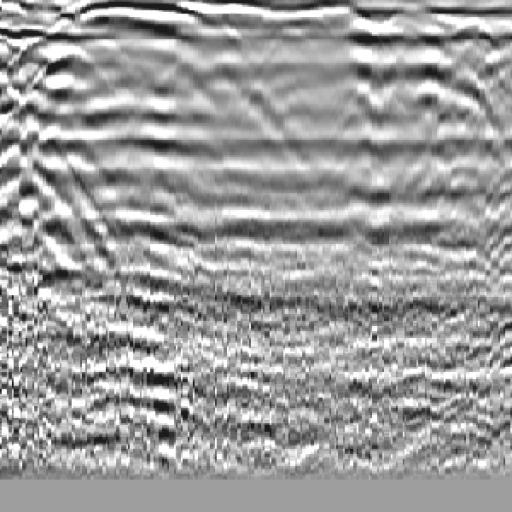non-metallic: (1, 37, 162, 256)
